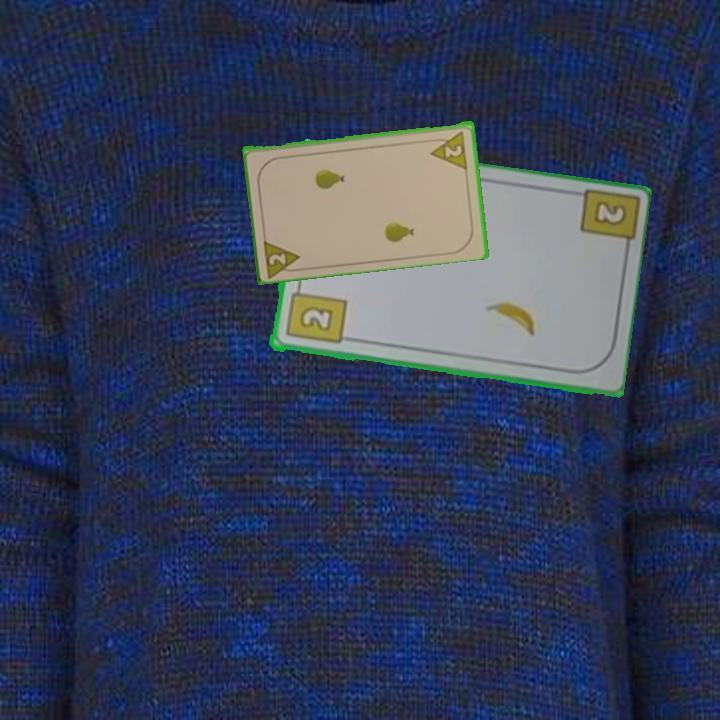2b: (282, 280, 348, 347), (593, 201, 626, 227)
2p: (260, 234, 305, 279), (427, 127, 470, 170)
